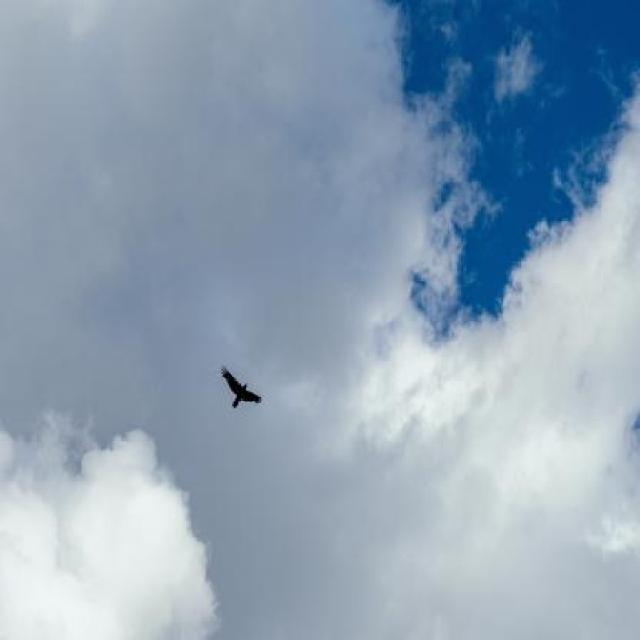bird: (220, 365, 263, 410)
